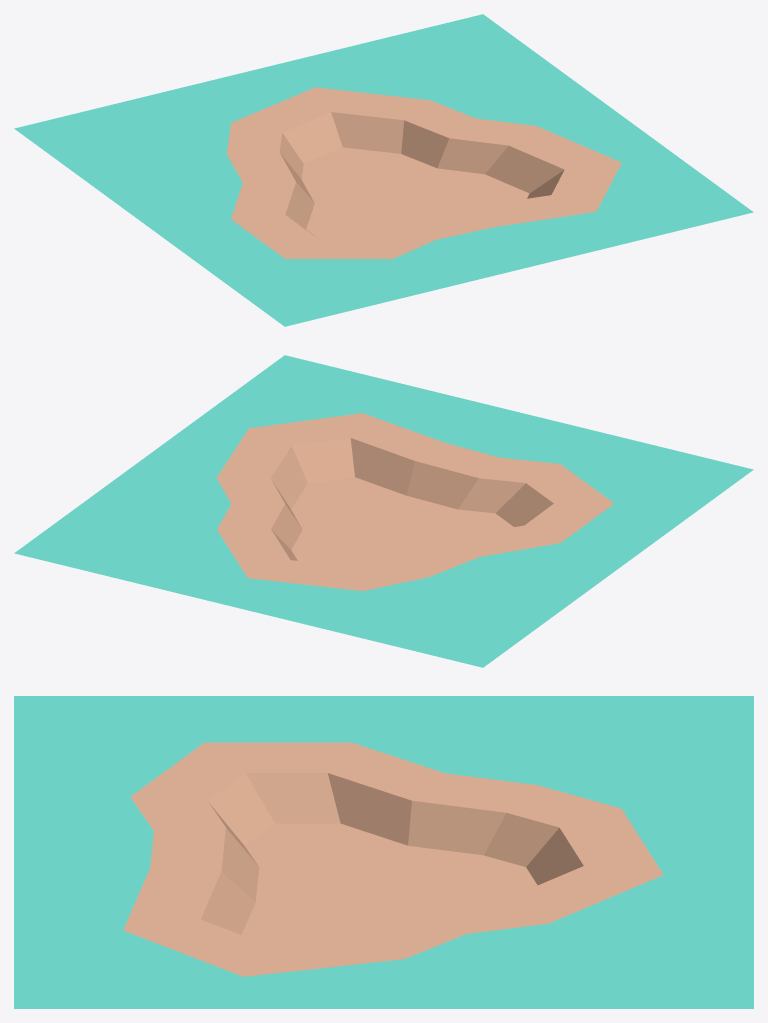
Rendered from ground_pathTile.gltf.
The picture shows the model from 3 angles, top to bottom: view 1: azimuth 30°, elevation 25°; view 2: azimuth 150°, elevation 25°; view 3: azimuth 270°, elevation 25°; orthographic projection. The views are drawn at different scales.
Parts seen in each view (by area): view 1: ground_pathTile; view 2: ground_pathTile; view 3: ground_pathTile.
Boxes of the visible parts, box(x1,y1,x2,y2) form: ground_pathTile: box(14, 14, 753, 326); ground_pathTile: box(14, 355, 753, 667); ground_pathTile: box(14, 696, 753, 1008).
Size of the model in its own units: 1 by 0.05 by 1.
